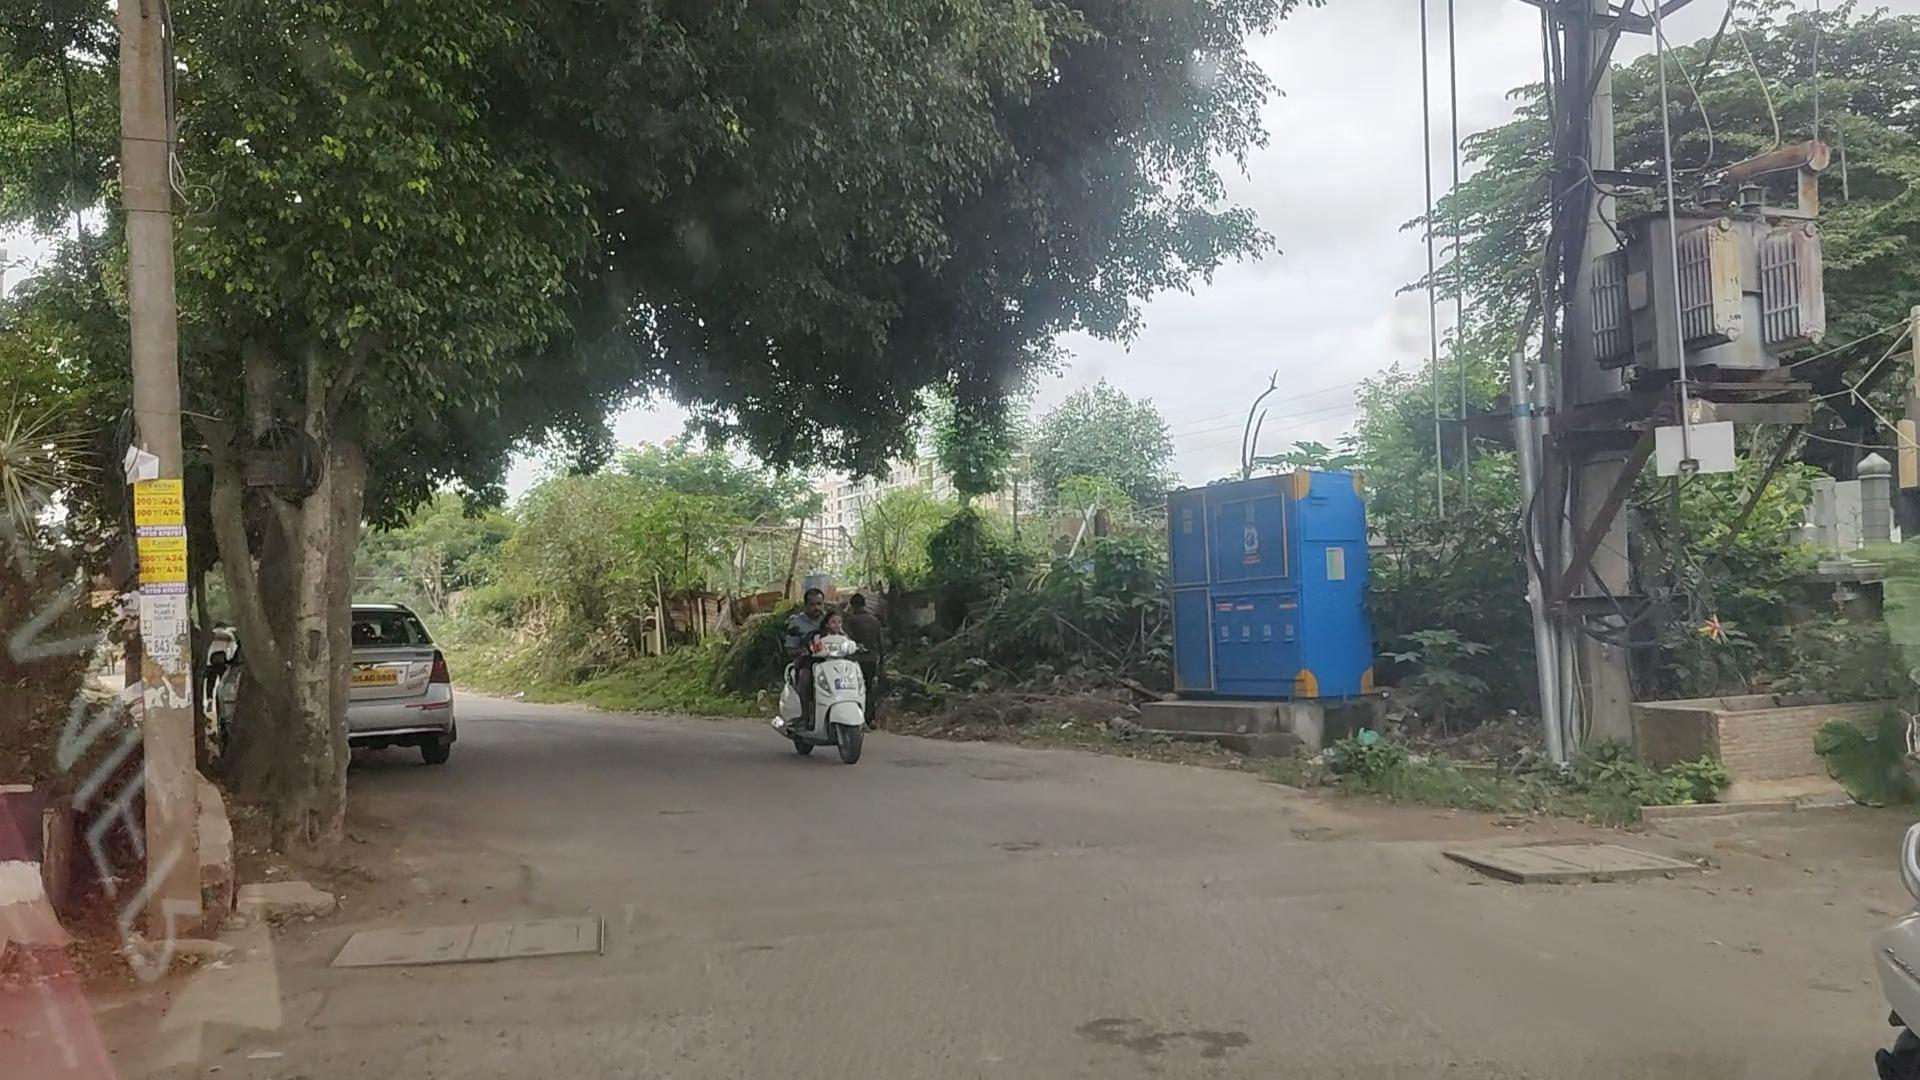RoadDamages: (364, 855, 651, 990), (1062, 989, 1247, 1080)
